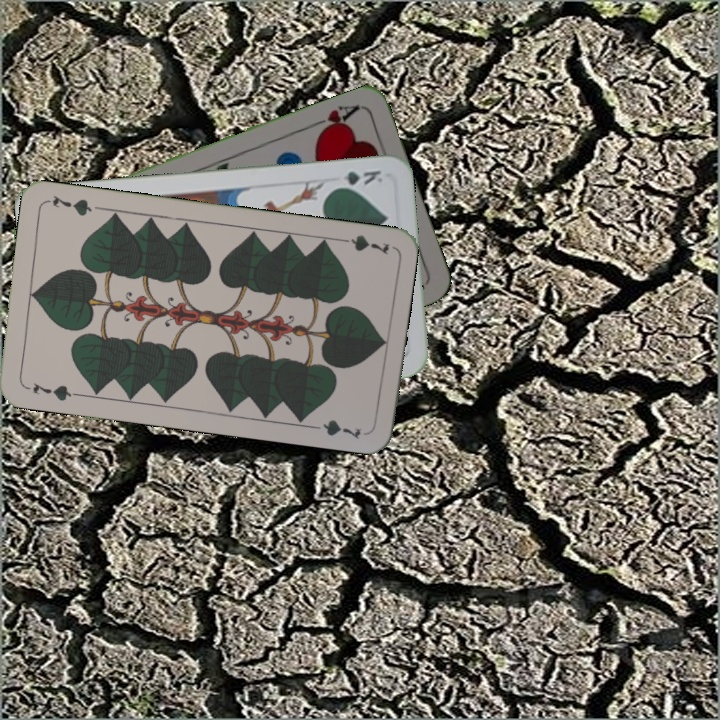G7: (333, 231, 392, 258), (29, 379, 80, 404)
GK: (329, 166, 385, 191)
HA: (306, 101, 363, 138)
